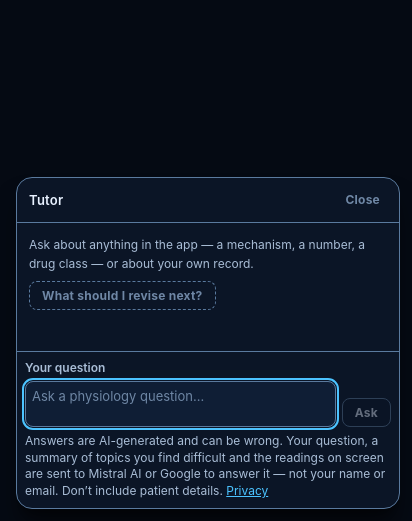
Test: ChatPanel › links the fallback passage back to its module
In the text box labelled "Your question": (180, 404) x1=25 y1=381 x2=336 y2=427, type "how does carbon dioxide change the pH"
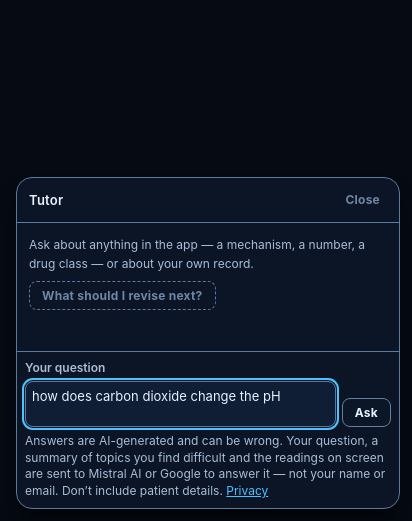
Click the button "Ask": (366, 412) x1=342 y1=398 x2=391 y2=427
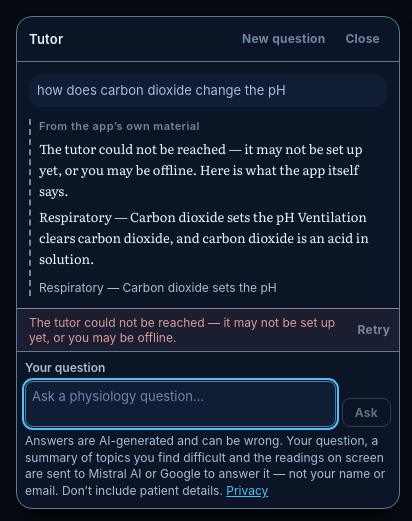
Expected: the text "From the app’s own material" is shown, x1=39 y1=119 x2=200 y2=133
